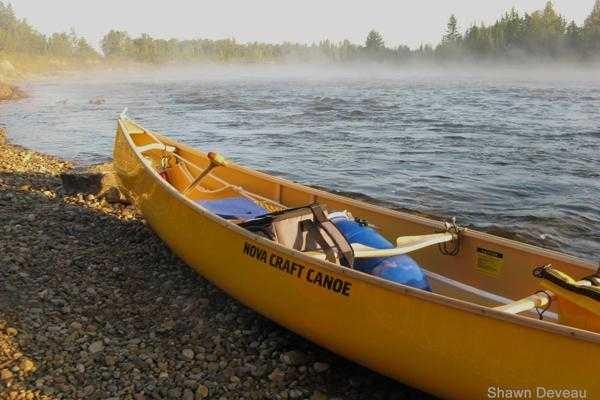kayak: (112, 115, 596, 394)
